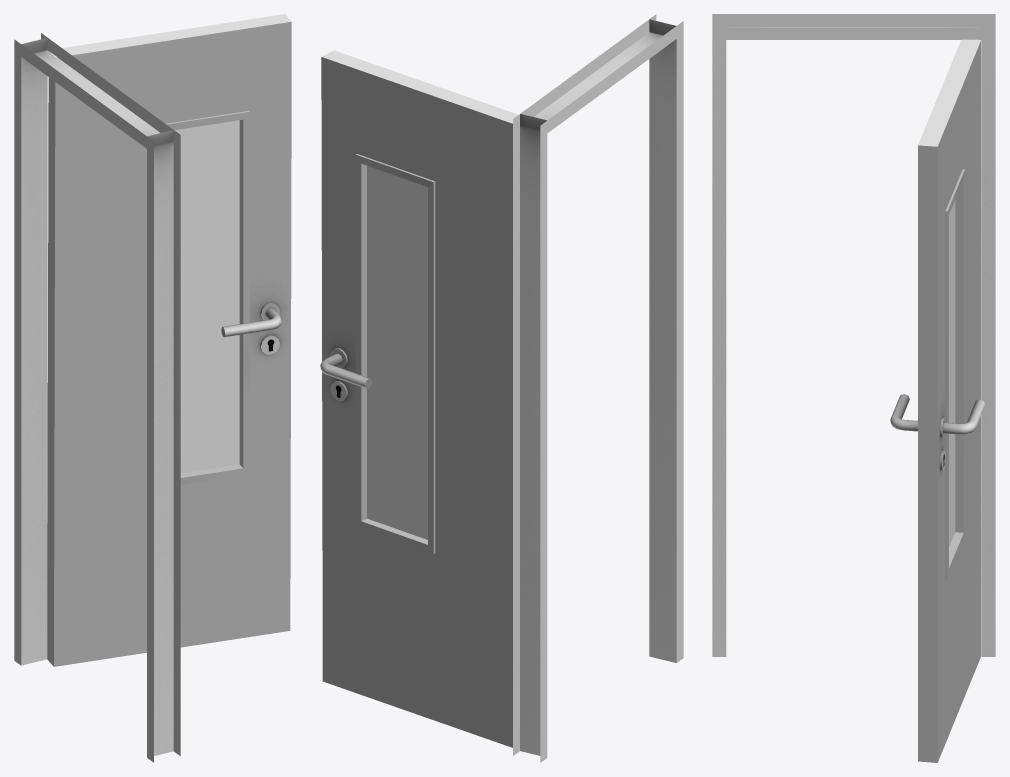
The model's file is realPDDoor1.fbx.
3 views of the same model, side by side, from view 1: azimuth 30°, elevation 25°; view 2: azimuth 150°, elevation 25°; view 3: azimuth 270°, elevation 25° (orthographic). The views are drawn at different scales.
Visible parts, largest first — view 1: polySurface415; view 2: polySurface415; view 3: polySurface415.
Part boxes in pixels (x1,y1,x2,y2): polySurface415: (14,14,291,762); polySurface415: (320,14,683,762); polySurface415: (712,14,995,762).
Size of the model in its own units: 1.64 by 4.03 by 1.65.
Materials: 2 (2 with a texture image).
